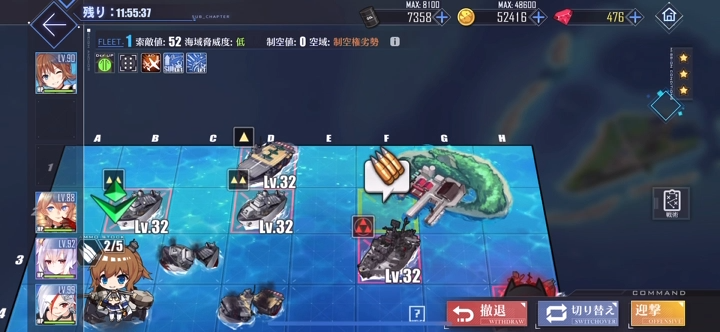lv3: (352, 216, 428, 284)
